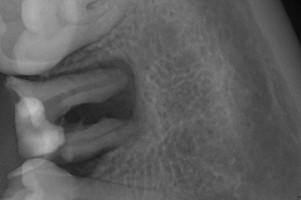Dental Caries: (48, 55, 138, 125)
